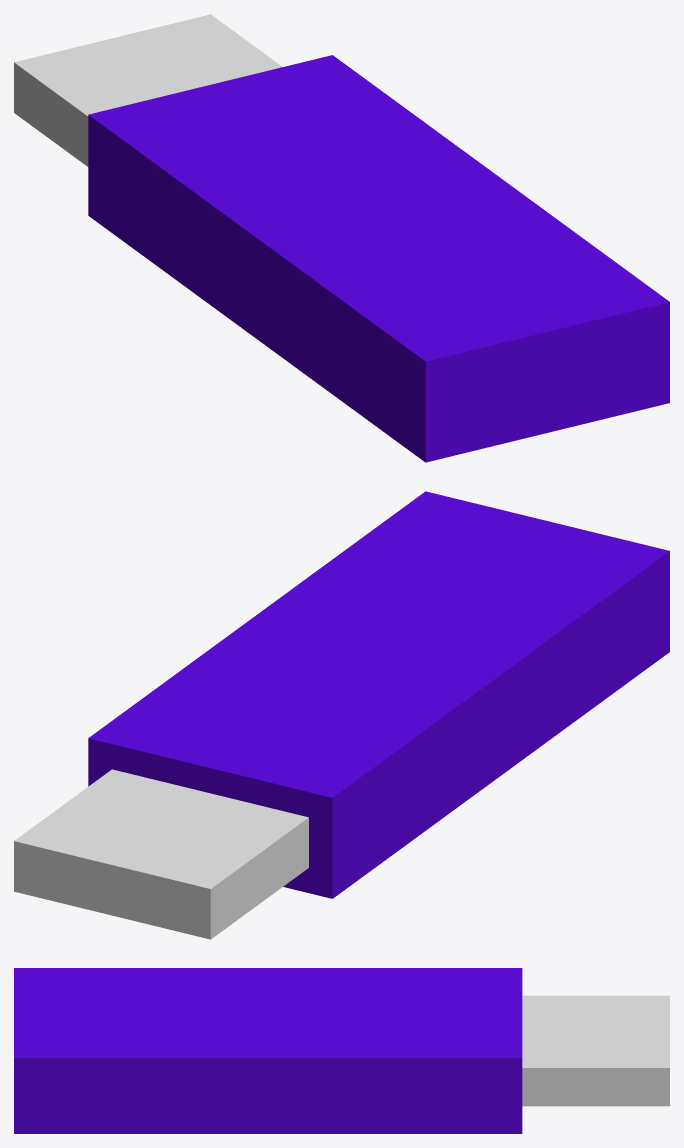
Rendered from TempLog.fbx.
3 renders of one model, top to bottom at view 1: azimuth 30°, elevation 25°; view 2: azimuth 150°, elevation 25°; view 3: azimuth 270°, elevation 25°, orthographic. The views are drawn at different scales.
Visible parts, largest first — view 1: Cube; view 2: Cube; view 3: Cube.
Boxes of the visible parts, bbox=[...] form: Cube: bbox=[14, 14, 669, 462]; Cube: bbox=[14, 491, 669, 939]; Cube: bbox=[14, 968, 669, 1133].
Bounding box in the file's own units: 83.64 × 33.05 × 258.
